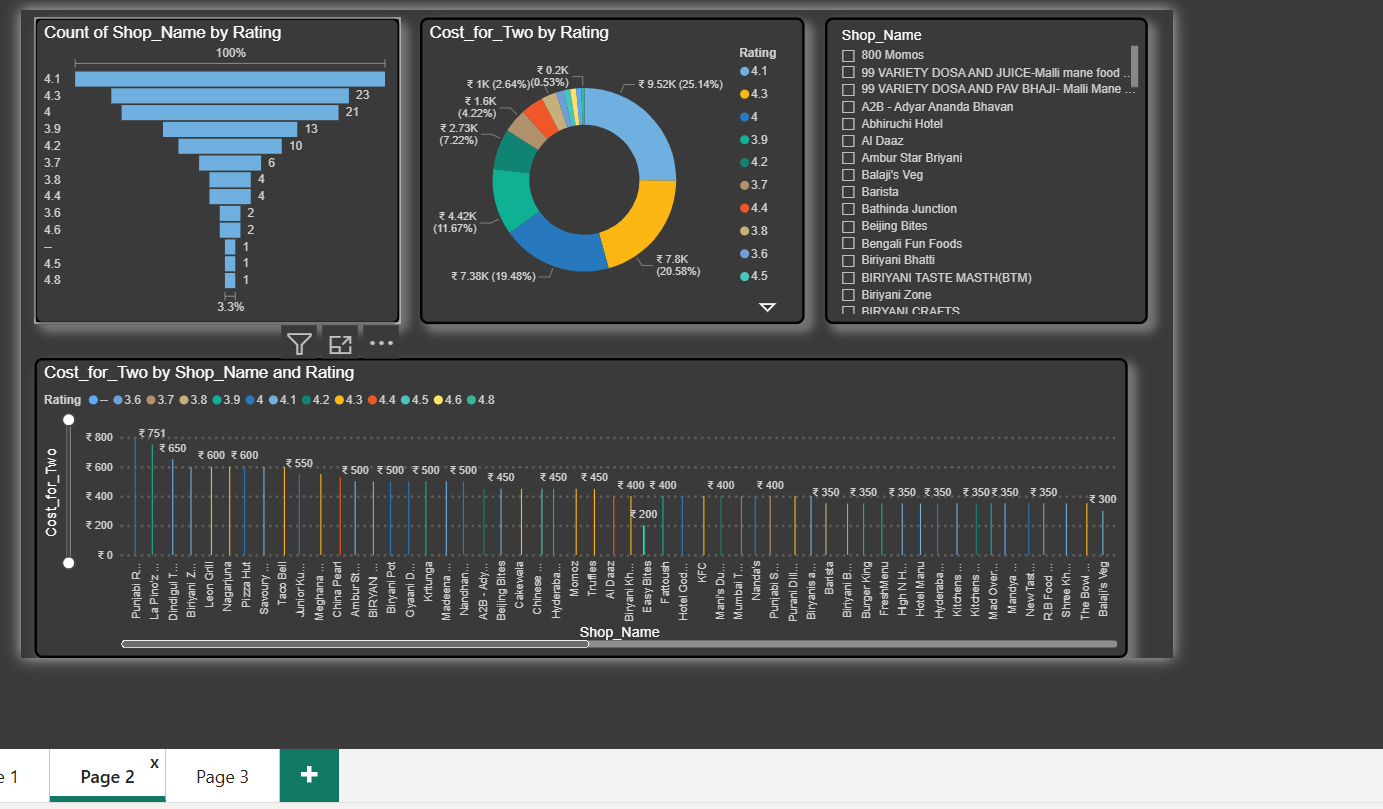

What the dashboard file says about the page in this screenshot:
{"tool":"powerbi","page":{"name":"Page 2","canvas":[1280,720],"ordinal":1},"visuals":[{"type":"clusteredColumnChart","fields":{"Category":["Swiggy Bangalore Outlet Details.Shop_Name"],"Y":["Sum(Swiggy Bangalore Outlet Details.Cost_for_Two)"],"Series":["Swiggy Bangalore Outlet Details.Rating"]},"box":[15.1,386.1,1214.4,333.1],"z":0},{"type":"donutChart","fields":{"Category":["Swiggy Bangalore Outlet Details.Rating"],"Y":["Sum(Swiggy Bangalore Outlet Details.Cost_for_Two)"]},"box":[443.7,7.6,427,340.7],"z":1000},{"type":"funnel","fields":{"Category":["Swiggy Bangalore Outlet Details.Rating"],"Y":["CountNonNull(Swiggy Bangalore Outlet Details.Shop_Name)"]},"box":[15.1,7.6,405.8,340.7],"z":2000},{"type":"slicer","fields":{"Values":["Swiggy Bangalore Outlet Details.Shop_Name"]},"box":[893.4,7.6,358.9,340.7],"z":3000}]}

Visuals, with their boxes on the page's 1280x720 design canvas (x1, y1, x2, y2). These are canvas units, not pixel positions in the 1383x809 screenshot, which may show the page scaled, cropped or inside an application window:
clusteredColumnChart - Swiggy Bangalore Outlet Details.Shop_Name x Sum(Swiggy Bangalore Outlet Details.Cost_for_Two): {"x1": 15, "y1": 386, "x2": 1230, "y2": 719}
donutChart - Swiggy Bangalore Outlet Details.Rating x Sum(Swiggy Bangalore Outlet Details.Cost_for_Two): {"x1": 444, "y1": 8, "x2": 871, "y2": 348}
funnel - Swiggy Bangalore Outlet Details.Rating x CountNonNull(Swiggy Bangalore Outlet Details.Shop_Name): {"x1": 15, "y1": 8, "x2": 421, "y2": 348}
slicer - Swiggy Bangalore Outlet Details.Shop_Name: {"x1": 893, "y1": 8, "x2": 1252, "y2": 348}
